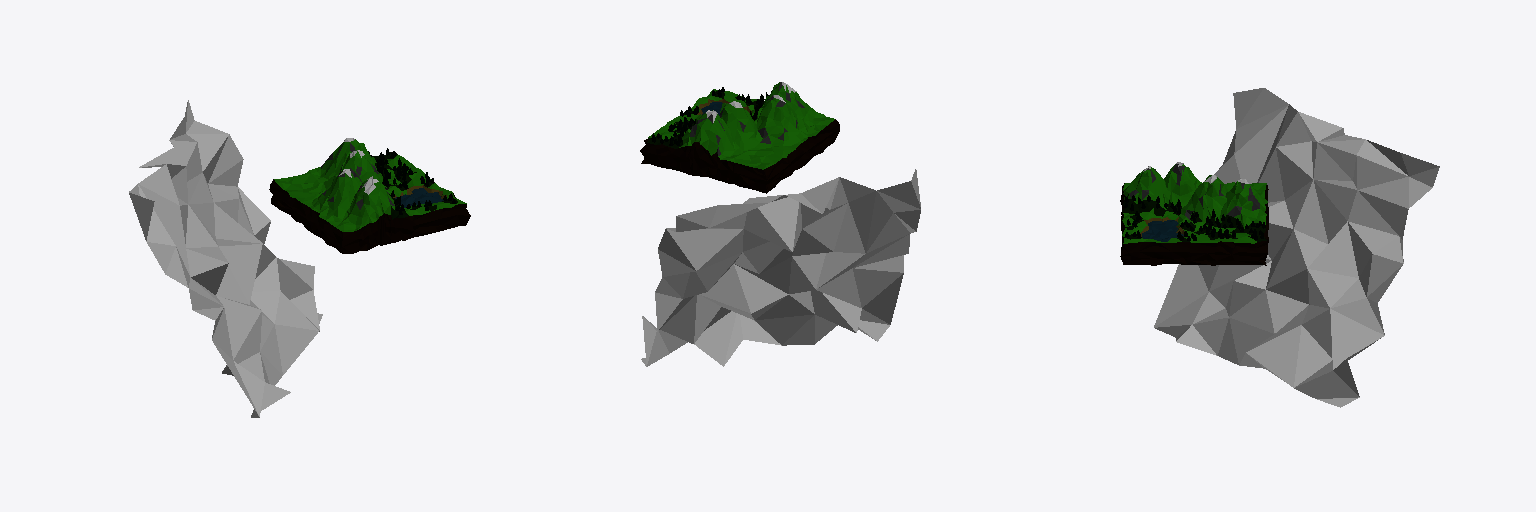
The model's file is mountains.obj.
3 renders of one model, left to right at view 1: azimuth 30°, elevation 25°; view 2: azimuth 150°, elevation 25°; view 3: azimuth 270°, elevation 25°, orthographic.
Visible parts, largest first — view 1: Plane.003_Plane.004, Plane; view 2: Plane.003_Plane.004, Plane; view 3: Plane.003_Plane.004, Plane, Plane.001.
Part boxes in pixels (bbox=[...]): Plane.003_Plane.004: bbox=[129, 100, 322, 417]; Plane: bbox=[269, 138, 470, 253]; Plane.003_Plane.004: bbox=[641, 169, 920, 366]; Plane: bbox=[640, 82, 839, 193]; Plane.003_Plane.004: bbox=[1154, 88, 1439, 407]; Plane: bbox=[1120, 162, 1268, 265]; Plane.001: bbox=[1142, 220, 1183, 241].
Size of the model in its own units: 224 by 181 by 230.